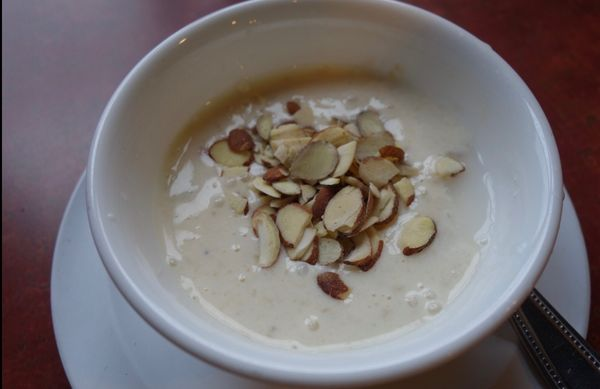sushi: (47, 0, 565, 374)
